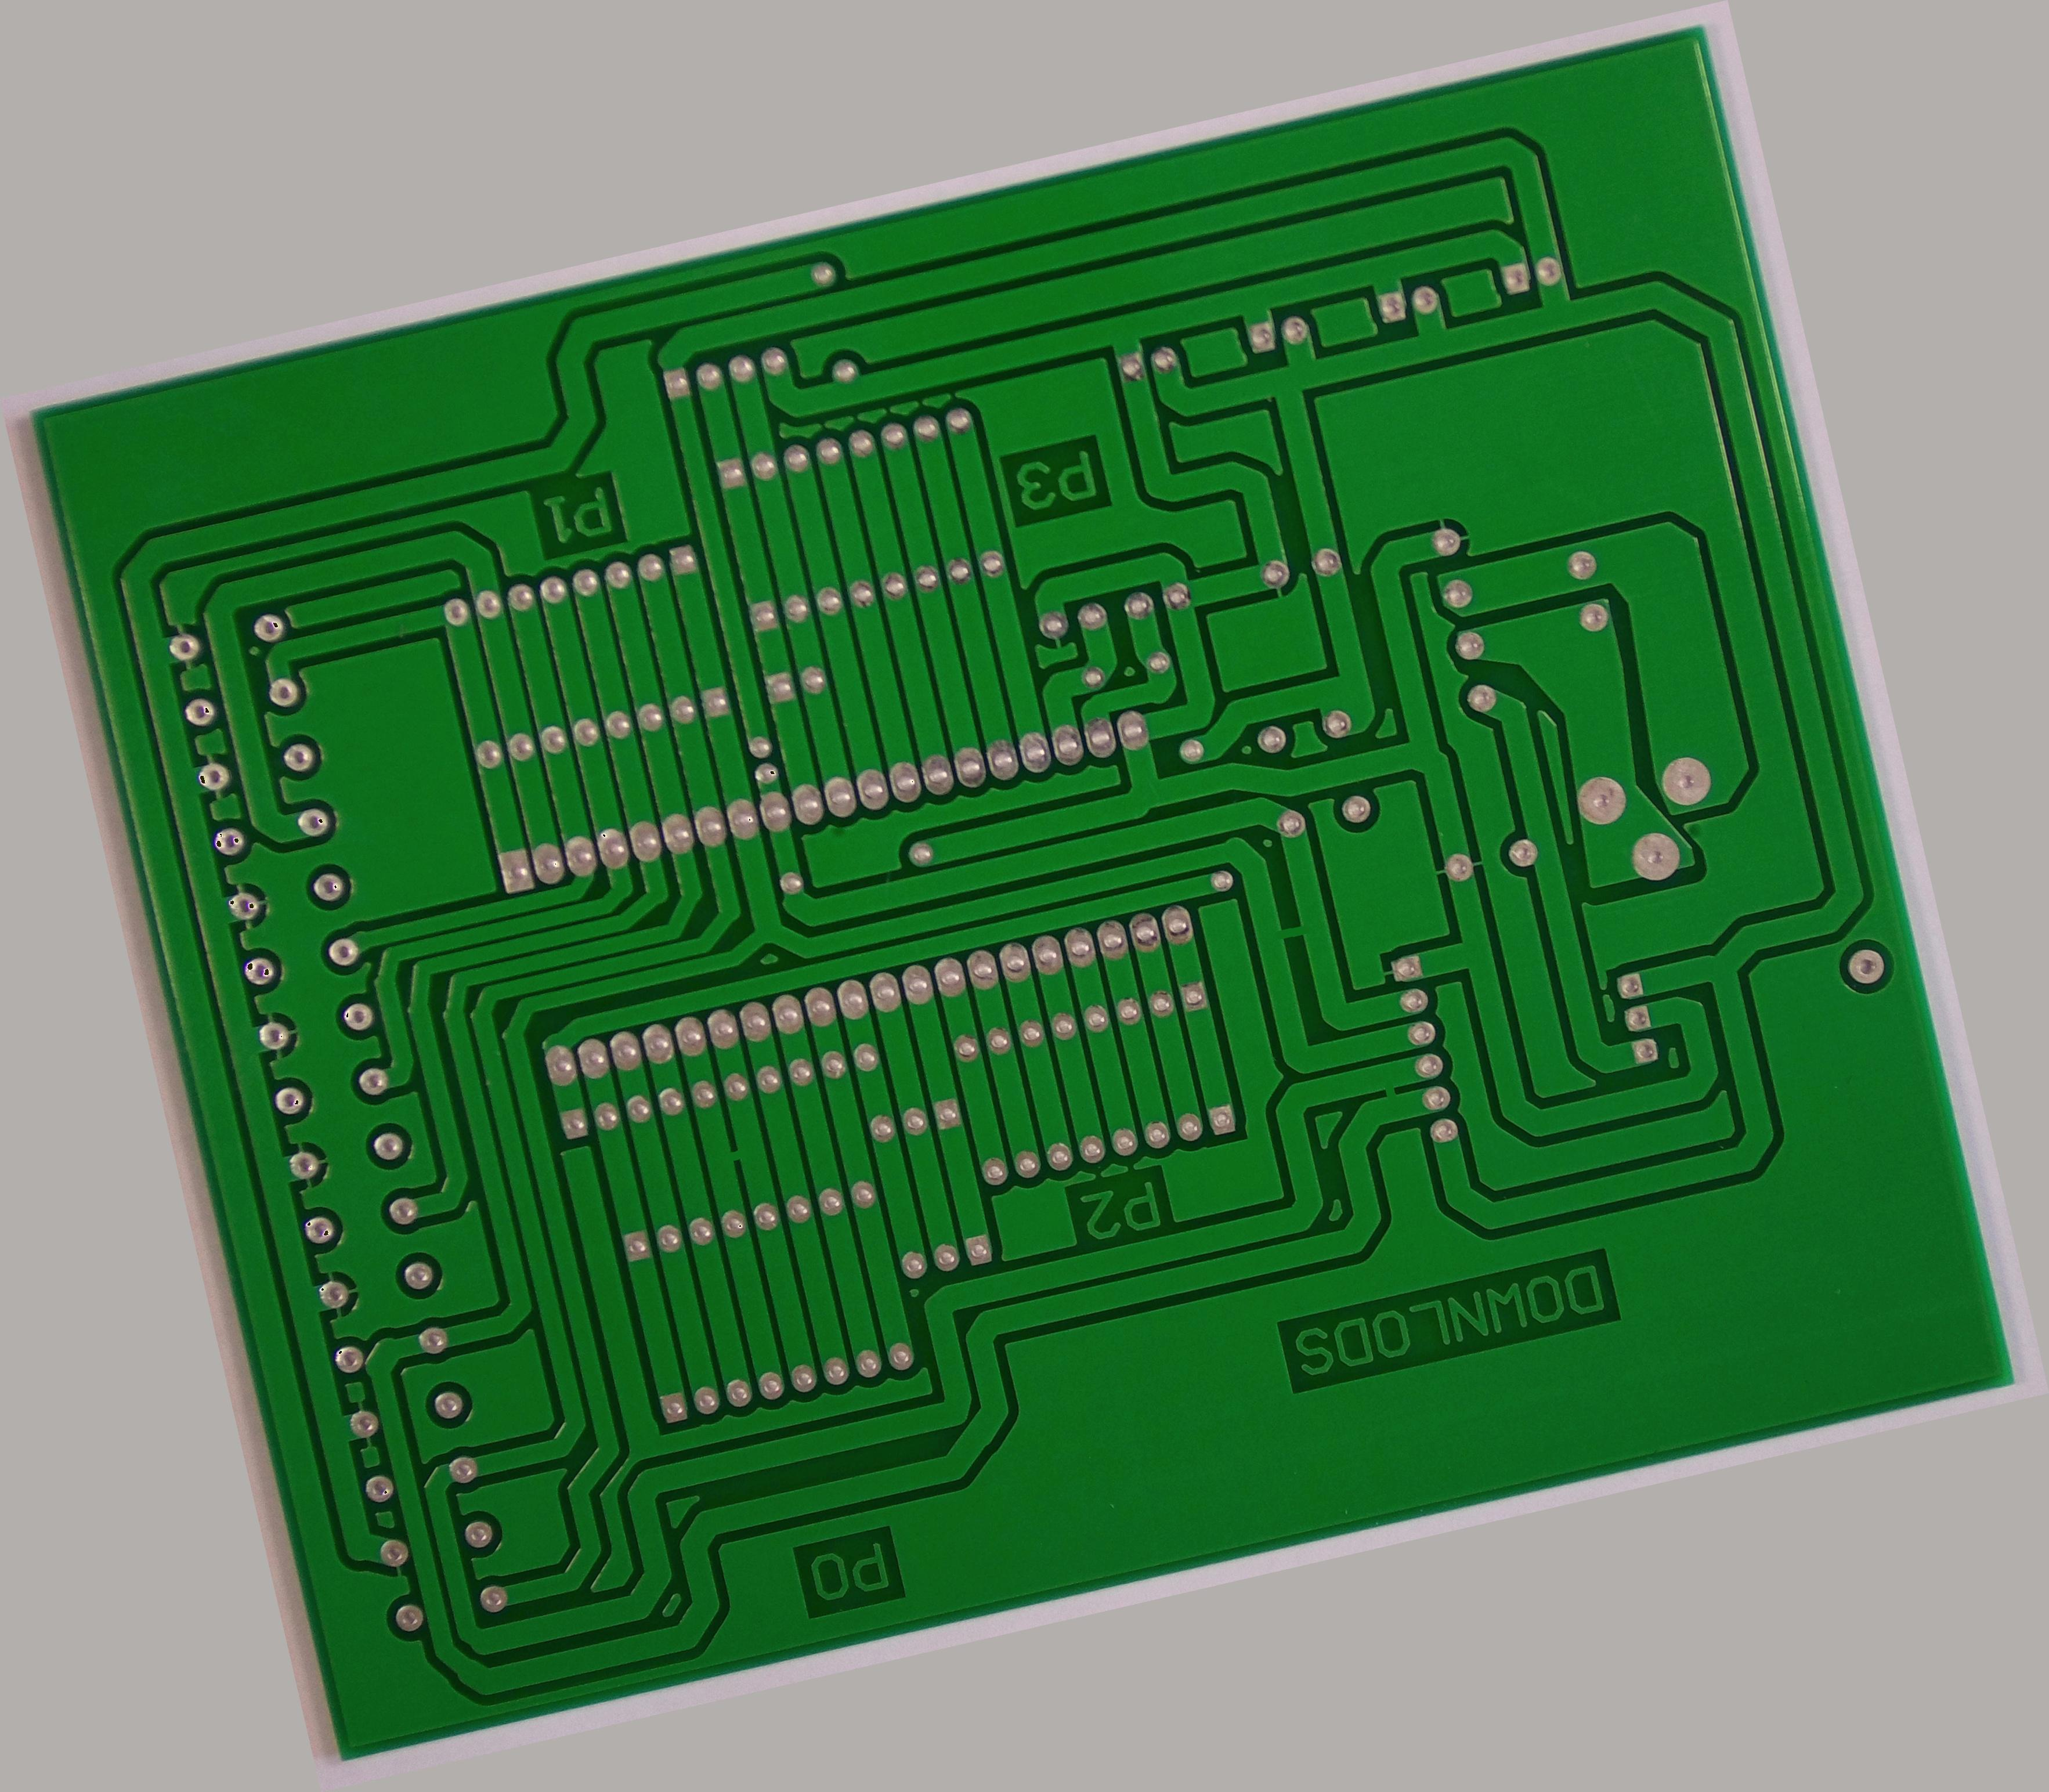short: (1249, 893, 1342, 974), (1356, 1049, 1430, 1135), (700, 1121, 768, 1192)
